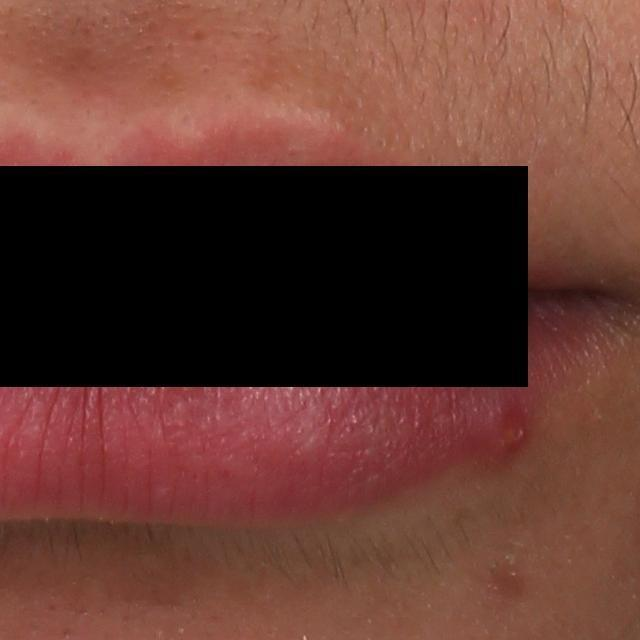papule: (480, 404, 528, 464)
